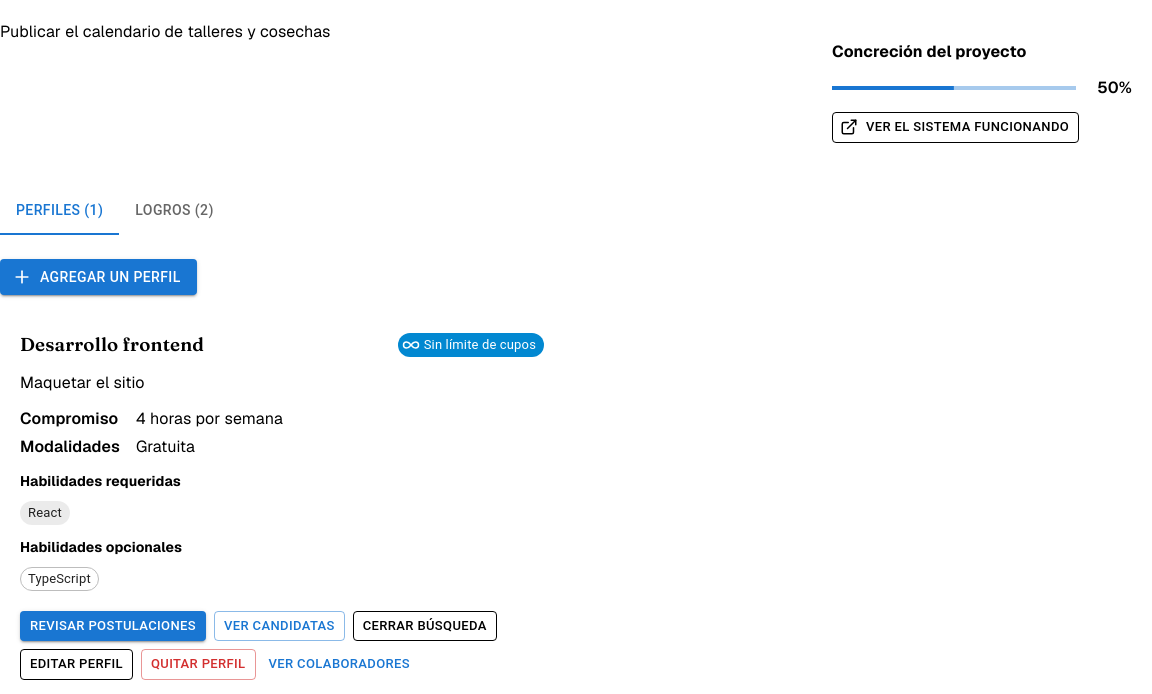
Test case: PaginaProyecto › cuando el colectivo dueño edita un perfil, la tarjeta muestra los datos nuevos
(page scrolled)
expect the text "Sin límite de cupos" is shown: met, box 416,335 -> 544,355
Click the button "Editar perfil": x=76, y=665 20,649 -> 133,680
(page scrolled)
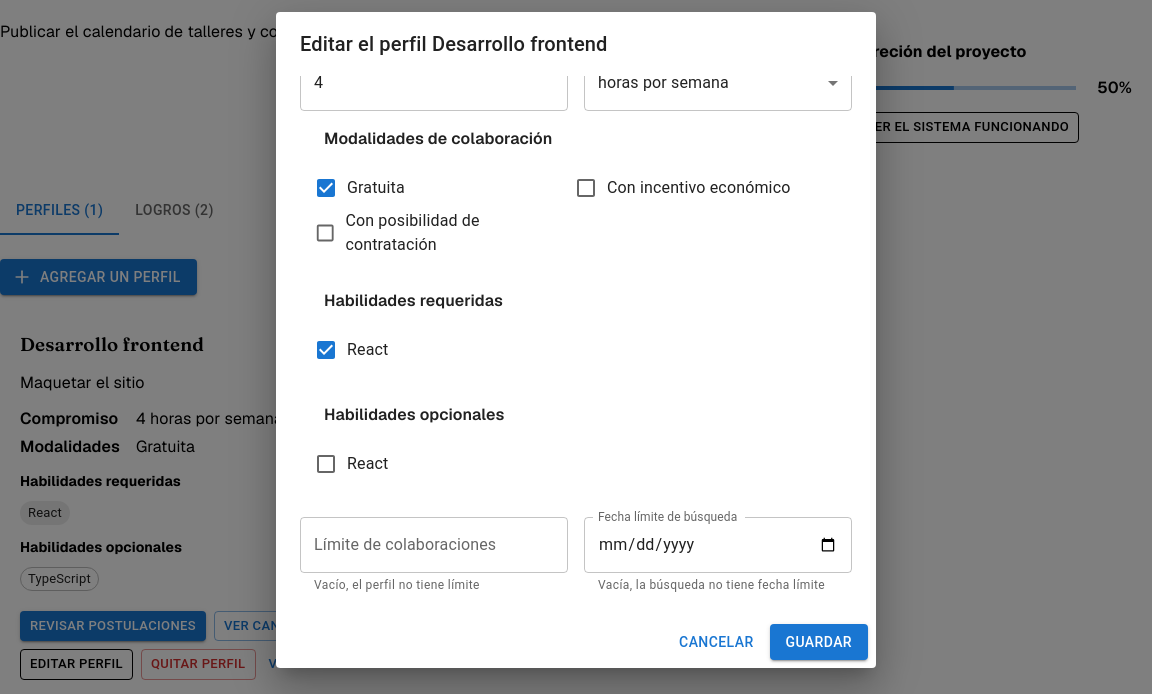
In the number field labelled "Límite de colaboraciones": x=434, y=545 300,517 -> 568,573, type "3"
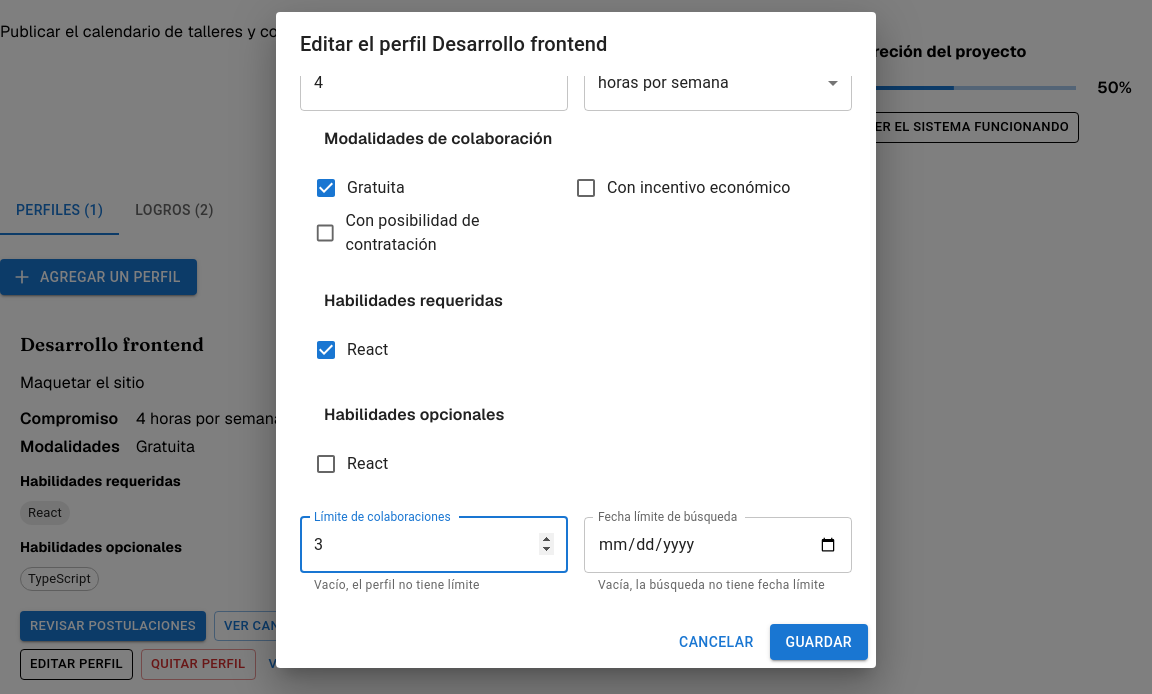
Click the button "Guardar": x=819, y=642 770,624 -> 868,660
(page scrolled)
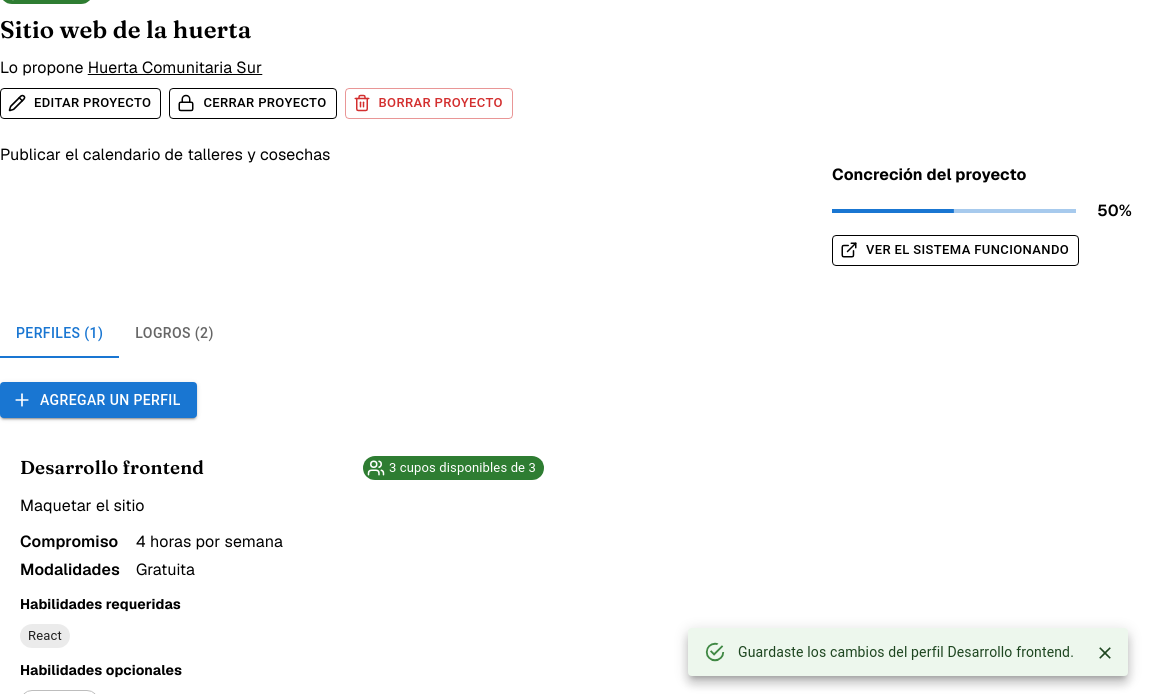
expect the heading "Sitio web de la huerta" is shown: met, box 0,12 -> 251,48
expect the text "3 cupos disponibles de 3" is shown: met, box 381,458 -> 544,478
